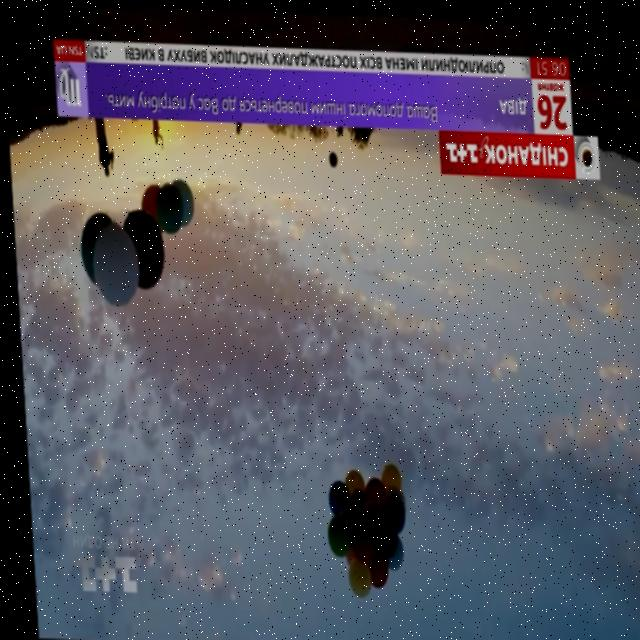balloon: (88, 221, 134, 306), (119, 205, 161, 286), (74, 210, 107, 281), (153, 177, 180, 234), (136, 177, 162, 229), (170, 174, 192, 225), (342, 519, 369, 558), (338, 556, 364, 595), (321, 514, 345, 555), (366, 515, 389, 552), (373, 460, 397, 494), (358, 550, 381, 585), (376, 492, 396, 532), (320, 479, 342, 515), (355, 497, 376, 524), (357, 476, 379, 500), (378, 538, 395, 568), (338, 466, 355, 491), (343, 487, 359, 509), (329, 504, 352, 519), (326, 149, 334, 167)
